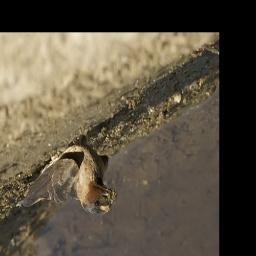Swallow: (20, 140, 116, 216)
